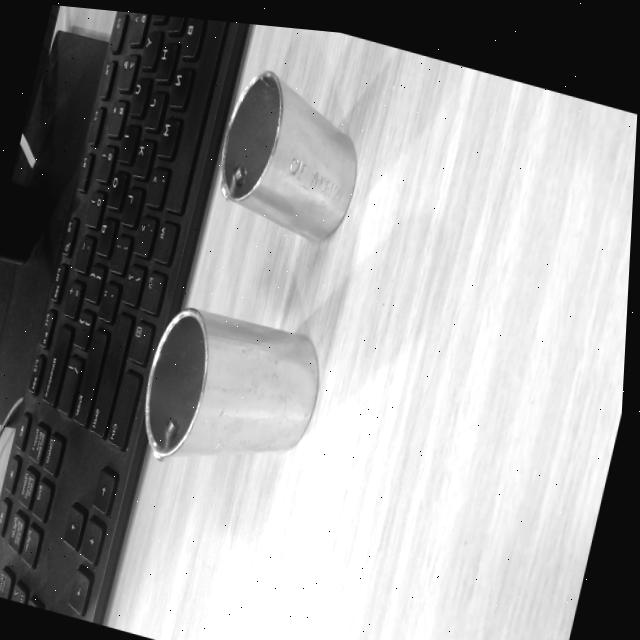Co_Lon: (132, 301, 329, 489)
Co_Nho: (195, 63, 387, 249)
